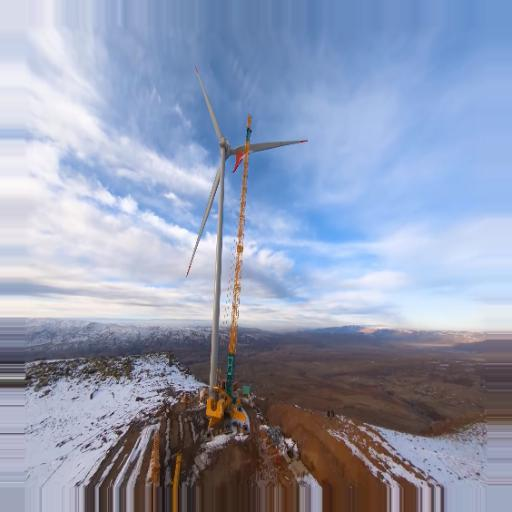wind turbine: (184, 62, 309, 391)
